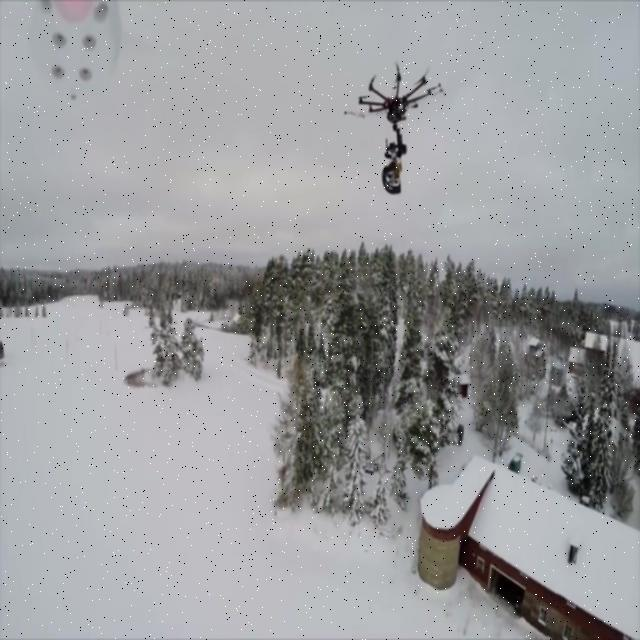UAV: (344, 62, 446, 126)
